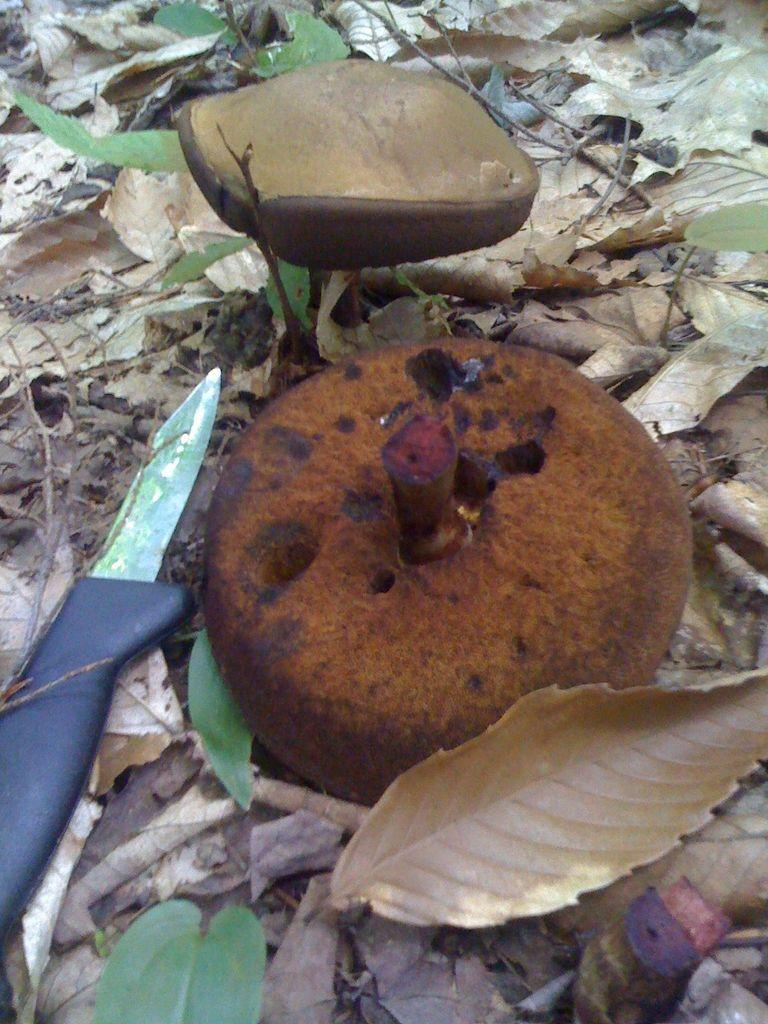Knife: (0, 364, 233, 966)
